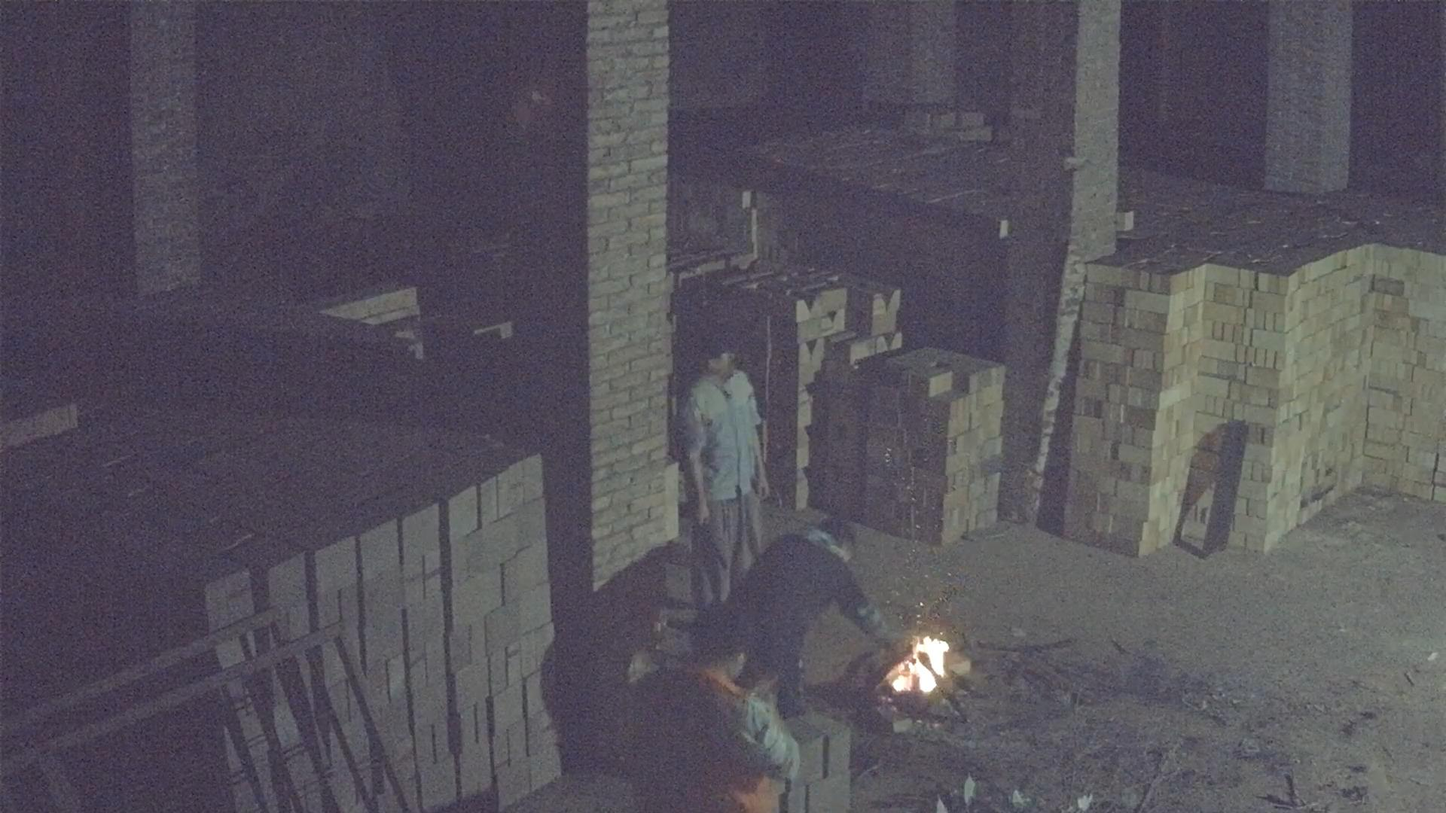fire: (891, 636, 950, 694)
